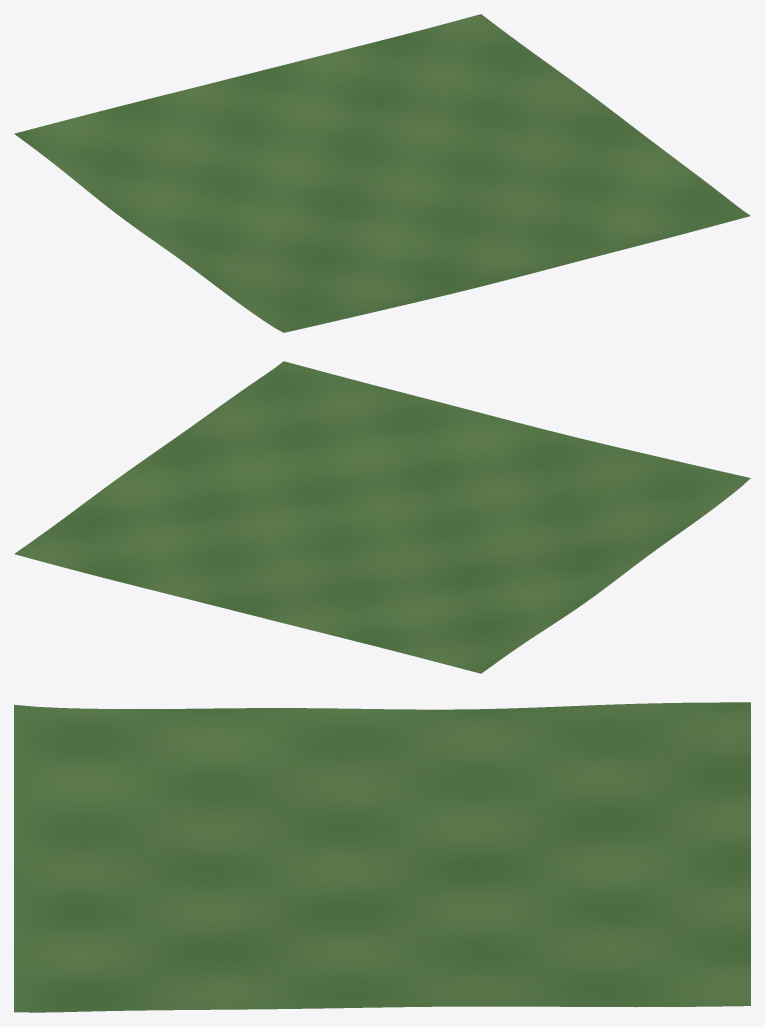
File: chunk_8_11.glb
3 renders of one model, top to bottom at view 1: azimuth 30°, elevation 25°; view 2: azimuth 150°, elevation 25°; view 3: azimuth 270°, elevation 25°, orthographic. The views are drawn at different scales.
Bounding box in the file's own units: 512 × 14.28 × 512.
